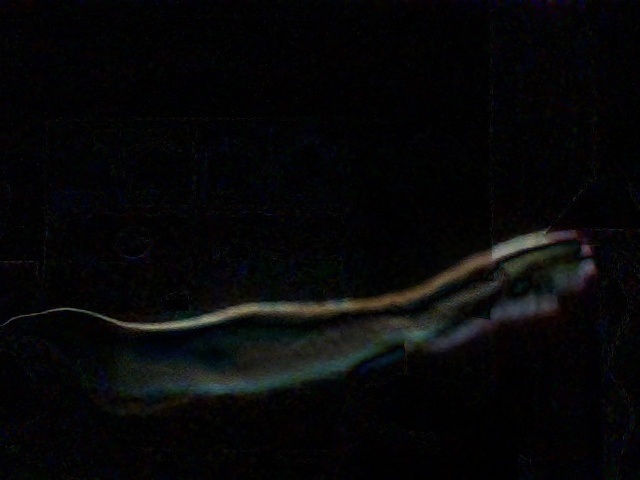hand_pa: (394, 221, 619, 360)
